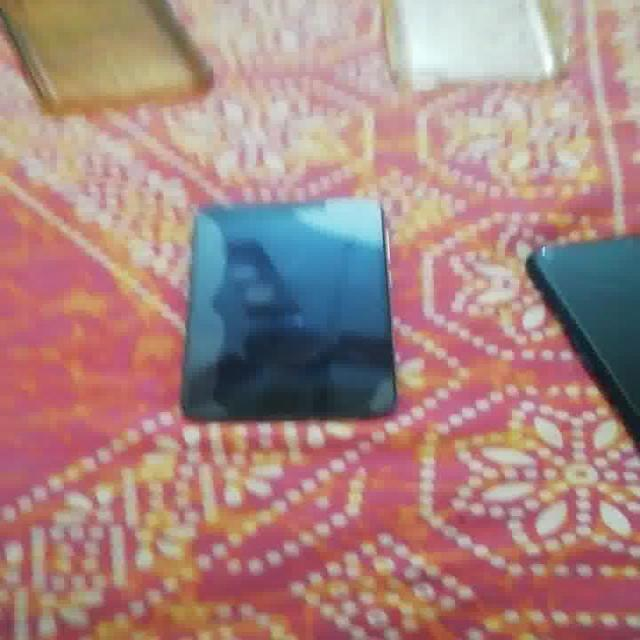phone: (180, 193, 400, 425), (526, 216, 638, 460)
